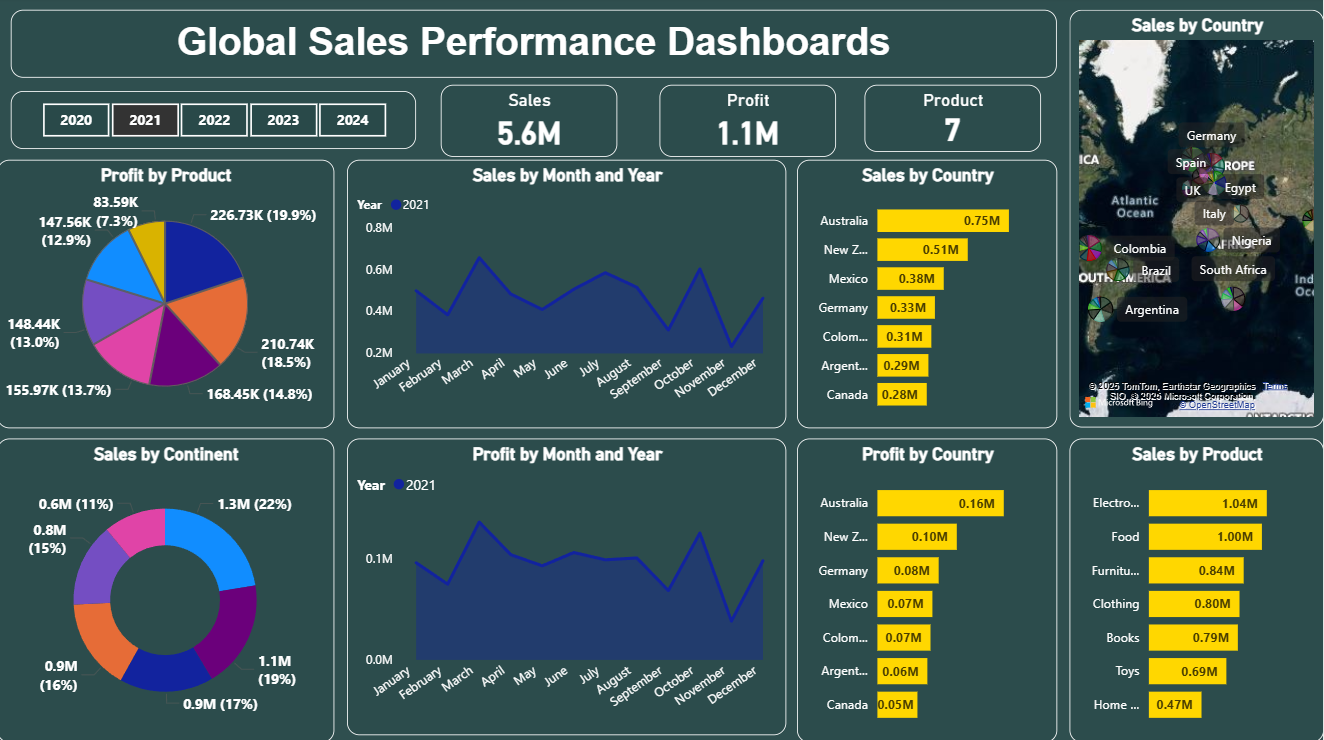

This screenshot's page, from the dashboard's own definition file:
{"tool":"powerbi","page":{"name":"Page 1","canvas":[1280,720],"ordinal":0},"visuals":[{"type":"clusteredBarChart","title":"Sales by Product","fields":{"Y":["Sum(global_sales_data.Sales)"],"Category":["global_sales_data.Product"]},"box":[1034.7,426.8,245.6,293.7],"z":0},{"type":"map","title":"Sales by Country","fields":{"Category":["global_sales_data.Country","global_sales_data.Continent"],"Size":["Sum(global_sales_data.Sales)"],"Series":["global_sales_data.Profit"]},"box":[1034.7,13.7,245.6,403.4],"z":1000},{"type":"clusteredBarChart","title":"Profit by Country","fields":{"Y":["Sum(global_sales_data.Profit)"],"Category":["global_sales_data.Country"]},"box":[772.6,426.8,251.1,293.7],"z":2000},{"type":"donutChart","title":"Sales by Continent","fields":{"Category":["global_sales_data.Continent"],"Y":["Sum(global_sales_data.Sales)"]},"box":[0,426.8,325.2,293.7],"z":3000},{"type":"stackedAreaChart","title":" Sales by Month and Year","fields":{"Y":["Sum(global_sales_data.Sales)"],"Category":["global_sales_data.Date.Variation.Date Hierarchy.Month"],"Series":["global_sales_data.Date.Variation.Date Hierarchy.Year"]},"box":[337.6,157.8,424,259.3],"z":4000},{"type":"stackedAreaChart","title":"Profit by Month and Year","fields":{"Category":["global_sales_data.Date.Variation.Date Hierarchy.Month"],"Series":["global_sales_data.Date.Variation.Date Hierarchy.Year"],"Y":["Sum(global_sales_data.Profit)"]},"box":[337.6,426.8,424,286.8],"z":5000},{"type":"pieChart","title":"Profit by Product","fields":{"Category":["global_sales_data.Product"],"Y":["Sum(global_sales_data.Profit)"]},"box":[0,157.8,325.2,259.3],"z":6000},{"type":"clusteredBarChart","title":"Sales by Country","fields":{"Y":["Sum(global_sales_data.Sales)"],"Category":["global_sales_data.Country"]},"box":[772.6,157.8,251.1,259.3],"z":7000},{"type":"textbox","box":[13.7,13.7,1010,65.9],"z":8000},{"type":"slicer","fields":{"Values":["global_sales_data.Date.Variation.Date Hierarchy.Year"]},"box":[13.7,91.9,391.1,56.3],"z":9000},{"type":"card","title":"Sales","fields":{"Values":["Sum(global_sales_data.Sales)"]},"box":[428.1,85.1,170.2,70],"z":10000},{"type":"card","title":"Profit","fields":{"Values":["Sum(global_sales_data.Profit)"]},"box":[639.5,85.1,170.2,70],"z":11000},{"type":"card","title":"Product","fields":{"Values":["Count(global_sales_data.Product)"]},"box":[837.1,85.1,170.2,64.5],"z":12000}]}

Visuals, with their boxes in screenshot pixels (x1, y1, x2, y2), scaled from the page's 1280x720 canvas onto the 1324x740 screenshot:
"Sales by Product" clusteredBarChart: x1=1070 y1=439 x2=1323 y2=739
"Sales by Country" map: x1=1070 y1=14 x2=1323 y2=429
"Profit by Country" clusteredBarChart: x1=799 y1=439 x2=1059 y2=739
"Sales by Continent" donutChart: x1=0 y1=439 x2=336 y2=739
" Sales by Month and Year" stackedAreaChart: x1=349 y1=162 x2=788 y2=429
"Profit by Month and Year" stackedAreaChart: x1=349 y1=439 x2=788 y2=733
"Profit by Product" pieChart: x1=0 y1=162 x2=336 y2=429
"Sales by Country" clusteredBarChart: x1=799 y1=162 x2=1059 y2=429
textbox: x1=14 y1=14 x2=1059 y2=82
slicer - global_sales_data.Date.Variation.Date Hierarchy.Year: x1=14 y1=94 x2=419 y2=152
"Sales" card: x1=443 y1=87 x2=619 y2=159
"Profit" card: x1=661 y1=87 x2=838 y2=159
"Product" card: x1=866 y1=87 x2=1042 y2=154
